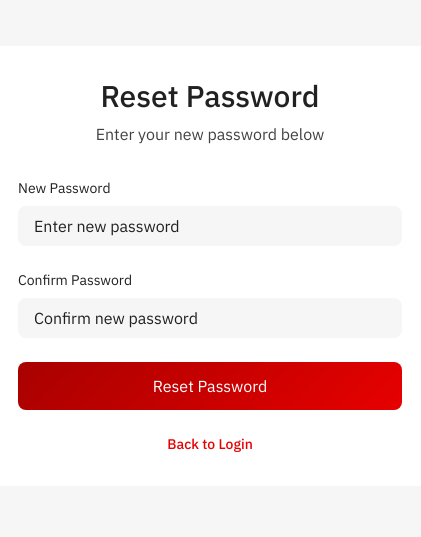
Test: ResetPasswordPage › submits reset-password with token and shows success
Type "Validpass123!" into the password field with test id "new-password-input".
click(210, 226); type("Validpass123!")  # box [18, 206, 402, 246]
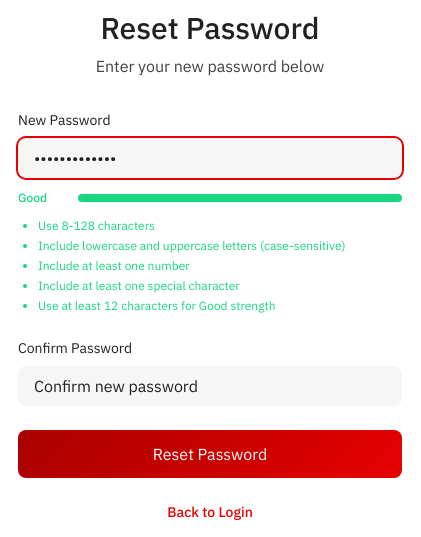
Type "Validpass123!" into the password field with test id "confirm-password-input".
click(210, 386); type("Validpass123!")  # box [18, 366, 402, 406]
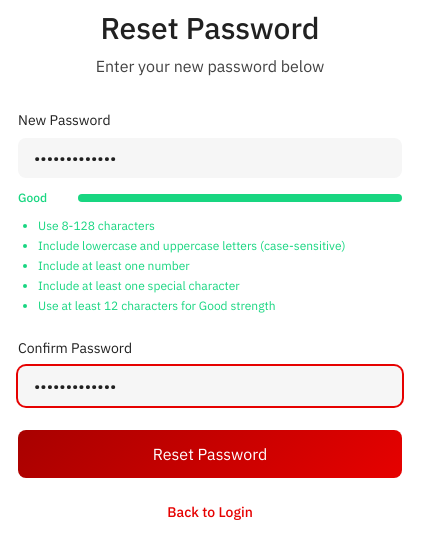
Click the button with test id "reset-password-submit-button".
click(210, 454)  # box [18, 430, 402, 478]
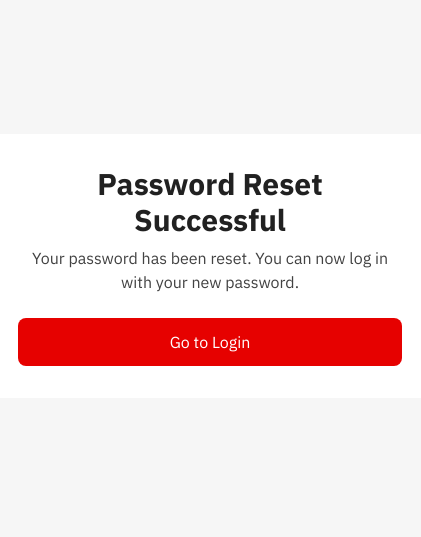
Check: the heading "Password Reset Successful" is shown, box [97, 164, 323, 239]
